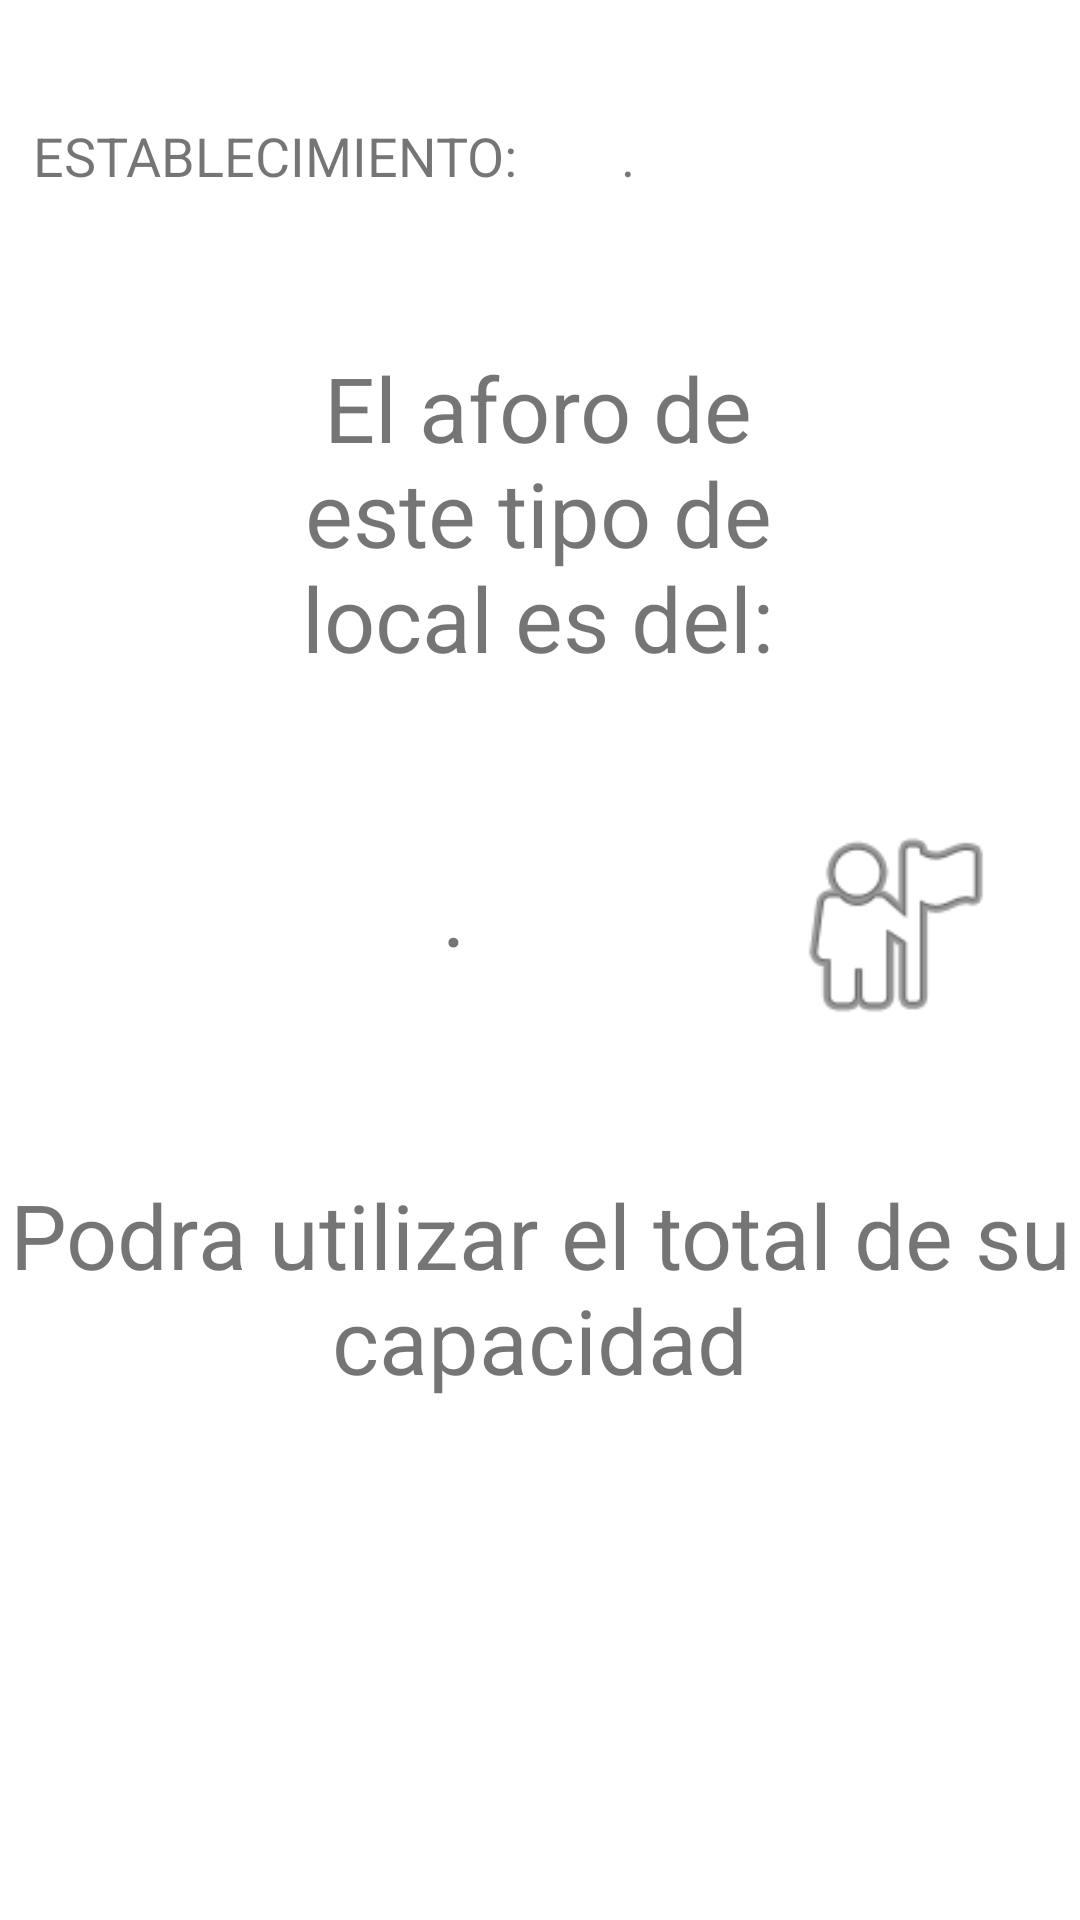

Icons on this 1080×1920 Android screen, each with its box as (x1, y1, x2, y2):
myplaces: (809, 838, 983, 1012)
